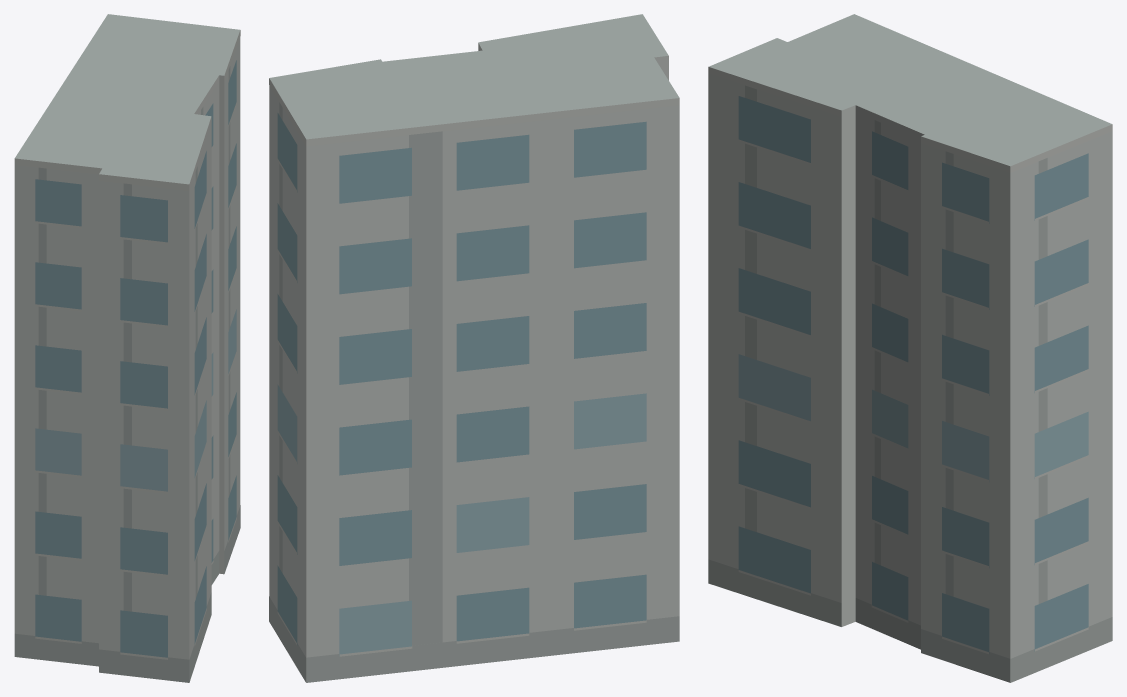
Rendered from survey-upis-32768980.glb.
The picture shows the model from 3 angles, left to right: view 1: azimuth 30°, elevation 25°; view 2: azimuth 150°, elevation 25°; view 3: azimuth 270°, elevation 25°; orthographic projection. The views are drawn at different scales.
Parts seen in each view (by area): view 1: survey-upis-32768980.tmp; view 2: survey-upis-32768980.tmp; view 3: survey-upis-32768980.tmp.
Boxes of the visible parts, bbox=[...] form: survey-upis-32768980.tmp: bbox=[14, 14, 240, 682]; survey-upis-32768980.tmp: bbox=[269, 14, 679, 682]; survey-upis-32768980.tmp: bbox=[708, 14, 1112, 682].
Bounding box in the file's own units: 11.89 × 18.8 × 13.34.
